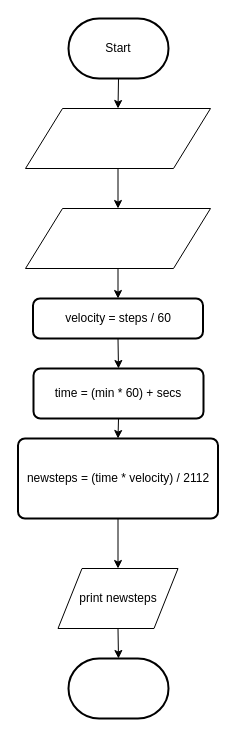
The diagram is 236 pixels wide and 736 high, and some of its shapes have lost their labels. The shapes that lost their labels are listed below. From the top down, each one's box as (x1, y1, x2, y2) in pixels, then its label:
(24, 108, 210, 168): Enter steps
(24, 208, 210, 268): Enter mins and secs
(67, 657, 169, 719): End
